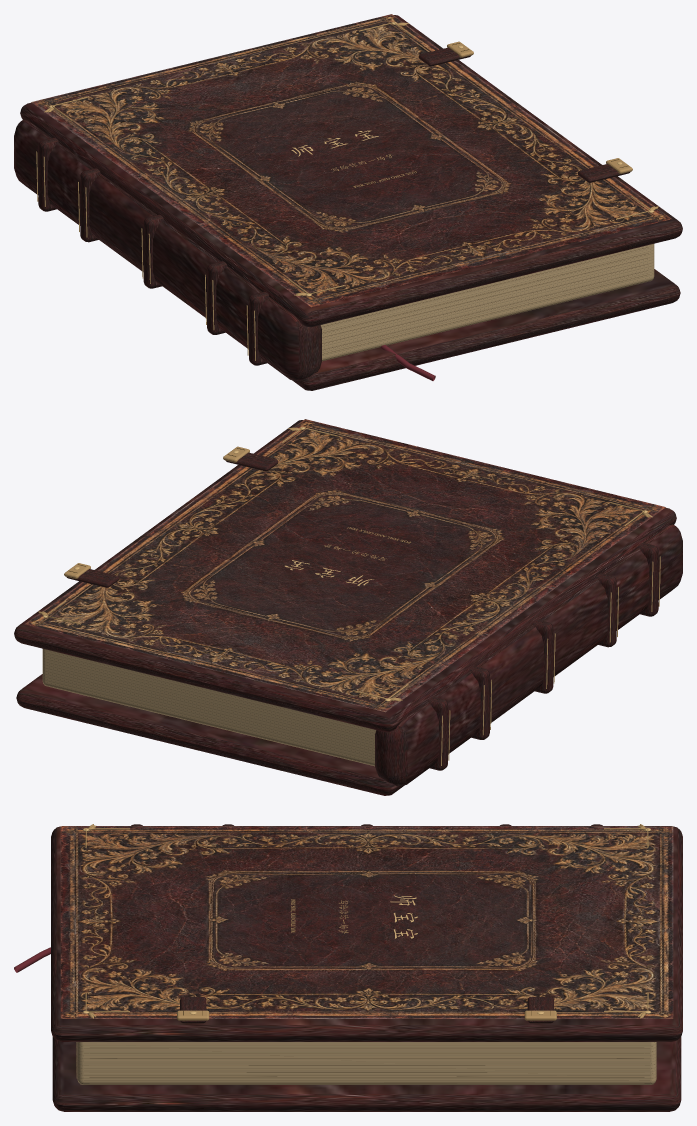
Rendered from magic-book.glb.
The picture shows the model from 3 angles, top to bottom: view 1: azimuth 30°, elevation 25°; view 2: azimuth 150°, elevation 25°; view 3: azimuth 270°, elevation 25°; orthographic projection. The views are drawn at different scales.
Parts seen in each view (by area): view 1: Calfskin_cover_PBR, Back_cover, Front_cover_board, Bound_page_block, Uneven_folio_foreedge, Cast_acanthus_corner, Worn_spine_rule; view 2: Calfskin_cover_PBR, Back_cover, Front_cover_board, Bound_page_block, Cast_acanthus_corner, Worn_spine_rule; view 3: Calfskin_cover_PBR, Bound_page_block, Front_cover_board, Back_cover, Uneven_folio_foreedge, Cast_acanthus_corner.
Boxes of the visible parts, box(x1,y1,x2,y2) form: Calfskin_cover_PBR: box(31, 14, 671, 307); Back_cover: box(14, 119, 680, 390); Front_cover_board: box(20, 15, 682, 327); Bound_page_block: box(320, 244, 654, 361); Uneven_folio_foreedge: box(321, 247, 648, 359); Cast_acanthus_corner: box(44, 22, 658, 296); Worn_spine_rule: box(36, 151, 255, 360); Calfskin_cover_PBR: box(25, 419, 665, 712); Back_cover: box(16, 524, 682, 795); Front_cover_board: box(14, 420, 676, 732); Bound_page_block: box(42, 649, 376, 766); Cast_acanthus_corner: box(38, 427, 652, 701); Worn_spine_rule: box(441, 556, 660, 765); Calfskin_cover_PBR: box(60, 826, 673, 1018); Bound_page_block: box(77, 1042, 656, 1084); Front_cover_board: box(51, 826, 682, 1041); Back_cover: box(52, 824, 681, 1111); Uneven_folio_foreedge: box(76, 1042, 644, 1083); Cast_acanthus_corner: box(85, 824, 648, 1020).
Bounding box in the file's own units: 2.89 × 0.649 × 3.81.
Materials: 11 (5 with a texture image).
